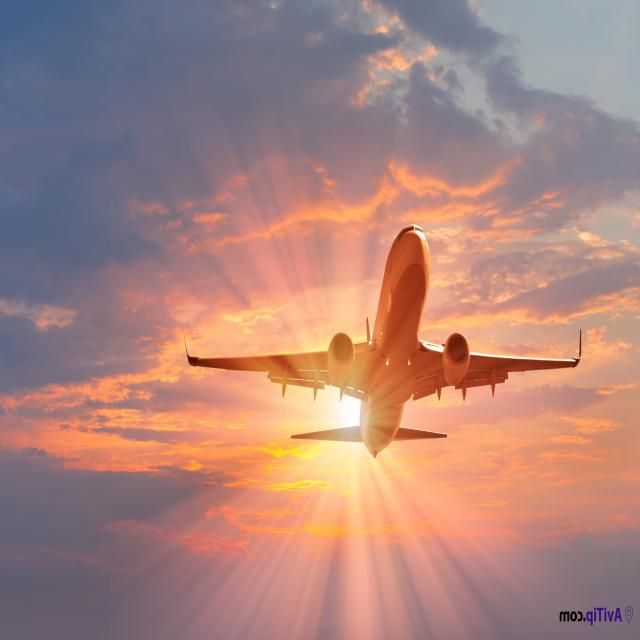plain: (176, 211, 583, 453)
